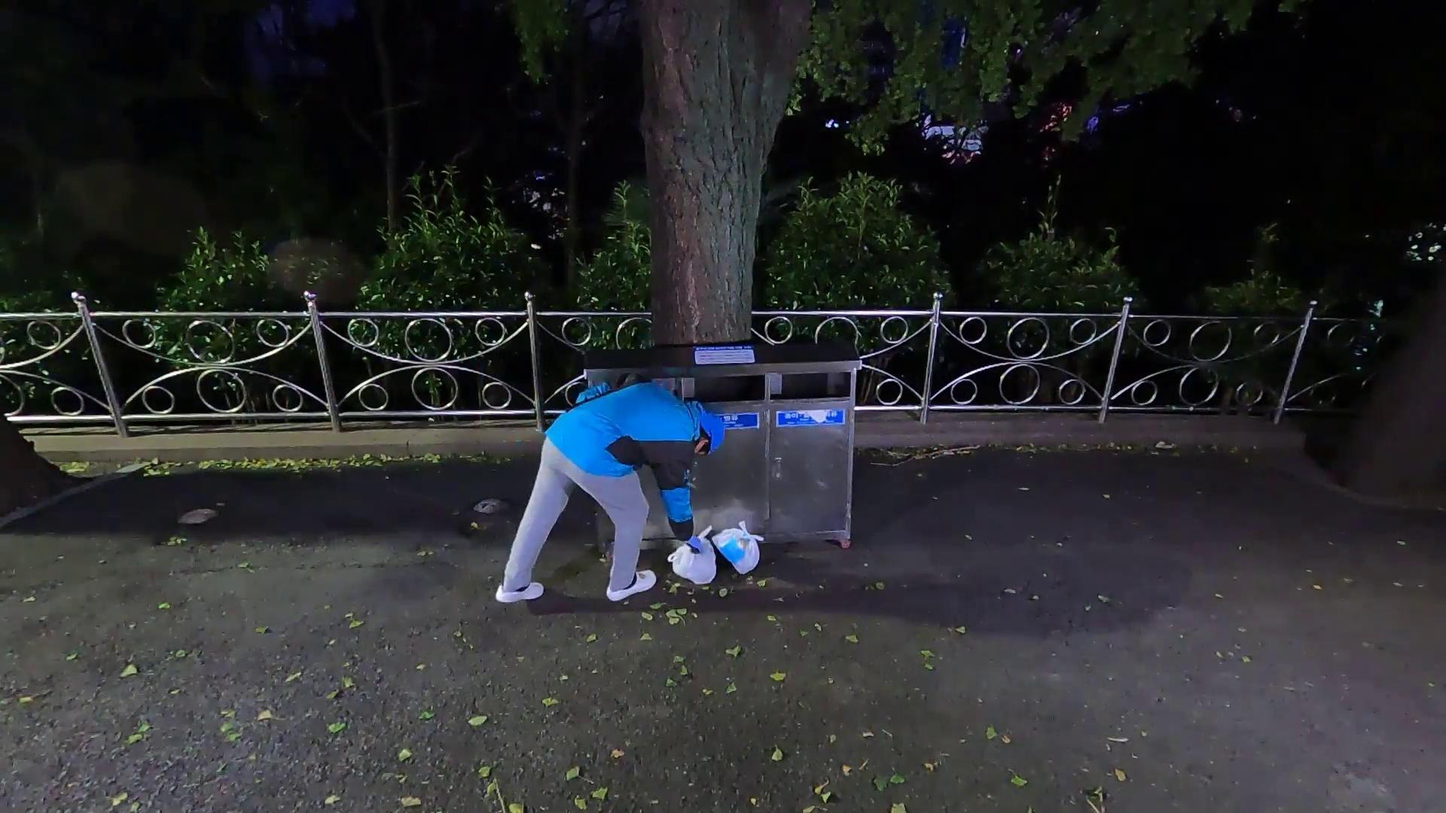person: (493, 377, 722, 602)
trash: (714, 519, 764, 575), (670, 525, 715, 585)
